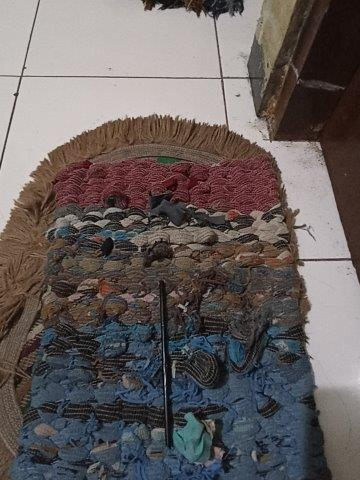sedotan: (159, 281, 173, 448)
